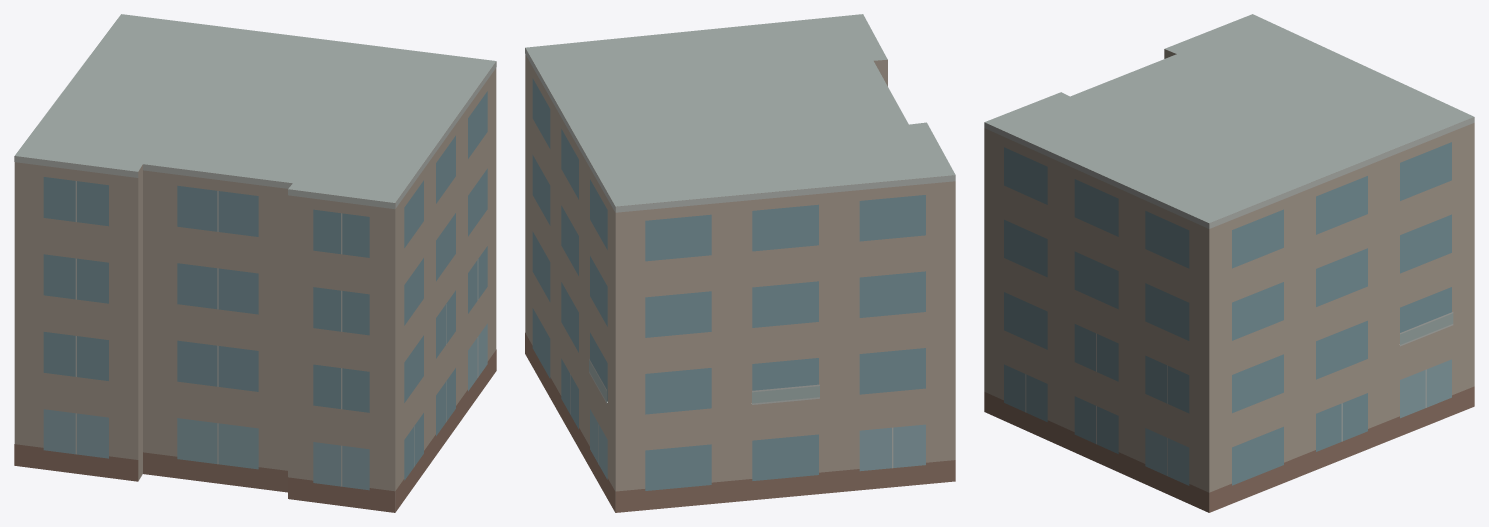
Rendered from survey-upis-32886783.glb.
3 renders of one model, left to right at view 1: azimuth 30°, elevation 25°; view 2: azimuth 150°, elevation 25°; view 3: azimuth 270°, elevation 25°, orthographic. The views are drawn at different scales.
Parts seen in each view (by area): view 1: survey-upis-32886783.tmp; view 2: survey-upis-32886783.tmp; view 3: survey-upis-32886783.tmp.
Boxes of the visible parts, left/top/right/bottom form: survey-upis-32886783.tmp: left=14, top=14, right=496, bottom=512; survey-upis-32886783.tmp: left=525, top=14, right=955, bottom=512; survey-upis-32886783.tmp: left=984, top=14, right=1474, bottom=512.
Bounding box in the file's own units: 18.91 × 12.2 × 18.73.
